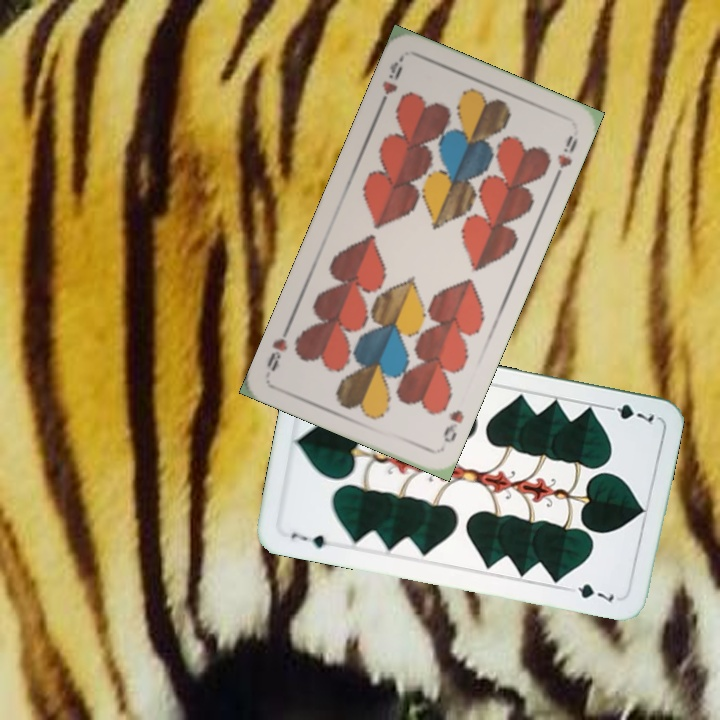G7: (600, 400, 657, 427), (286, 529, 329, 551)
H9: (375, 53, 406, 110), (439, 406, 467, 446)
